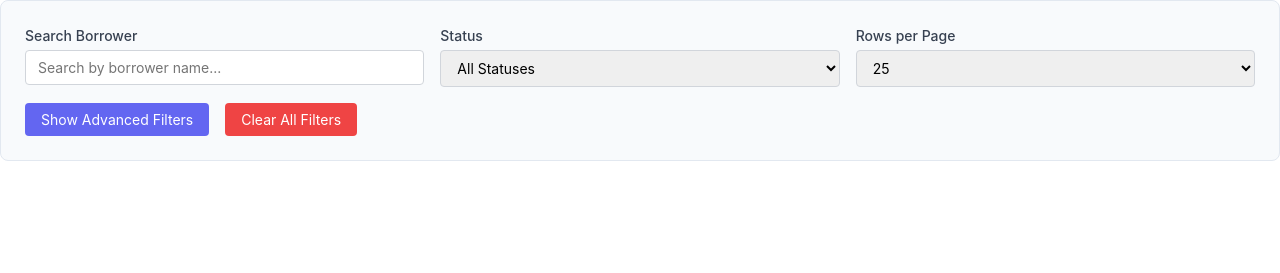
Test: LoanFilters.vue › shows advanced filters when toggle clicked
What coordinates should you click on to do the following:
click the button with class "toggle-advanced-btn"
I would click on:
 (117, 120)
Its box is [25, 103, 209, 136].
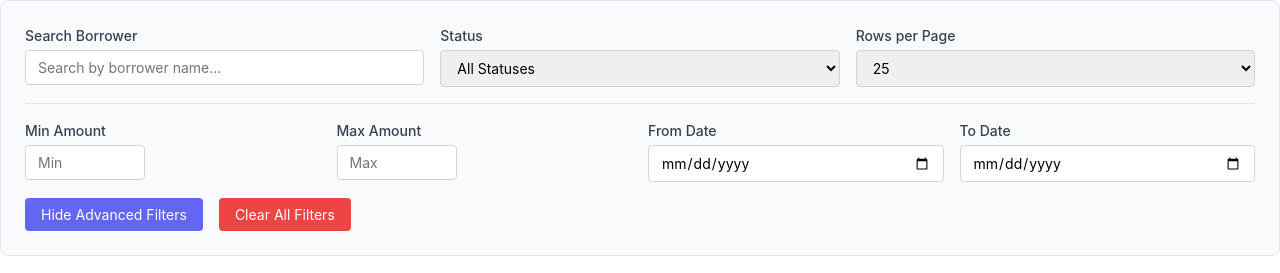
Check: the element with class "advanced-filters" is shown, box [25, 103, 1255, 182]
